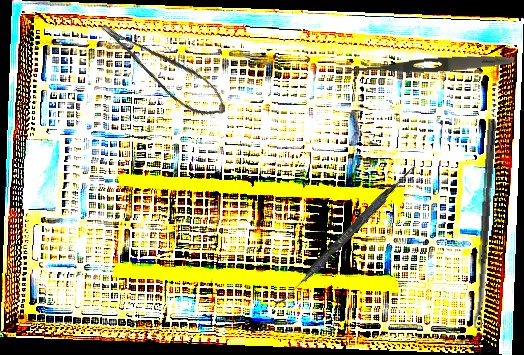Dressing Forceps: (347, 52, 515, 79)
Micro Scissor: (97, 2, 234, 132)
Spatula Surgical: (274, 160, 417, 313)
Surgical Spoon: (472, 118, 497, 329)
